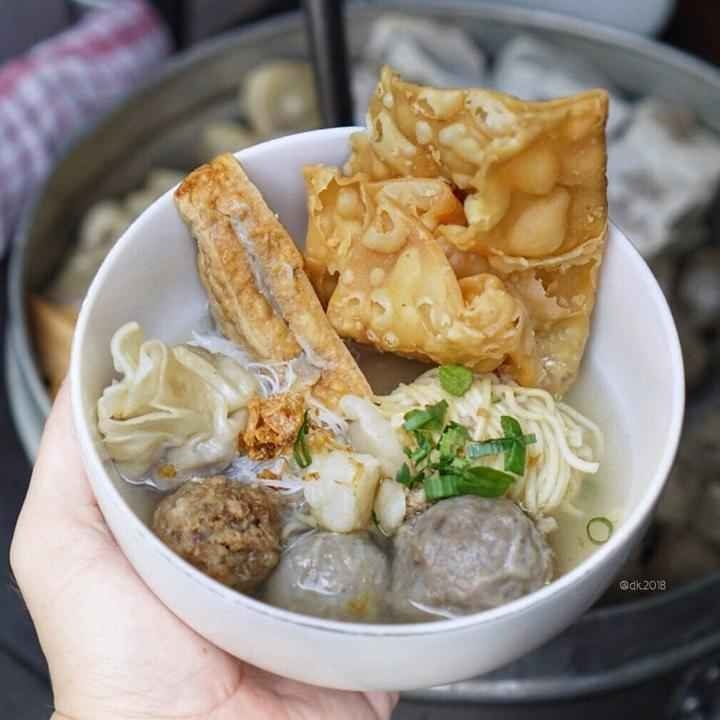bakso_malang: (95, 66, 625, 623)
